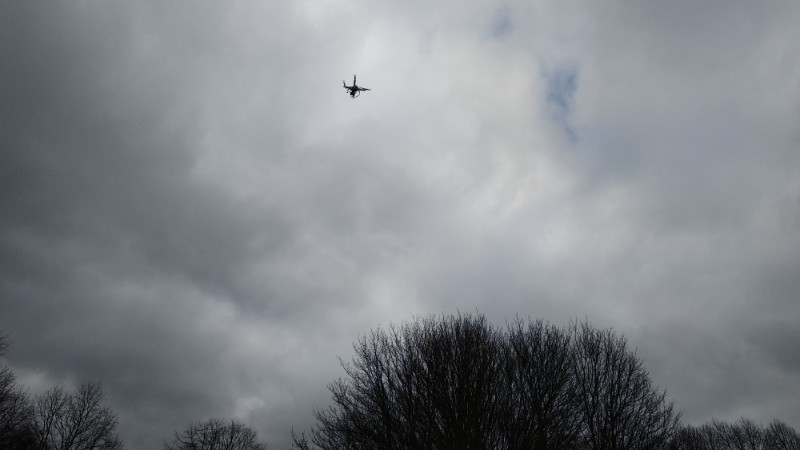drone: (341, 74, 373, 98)
